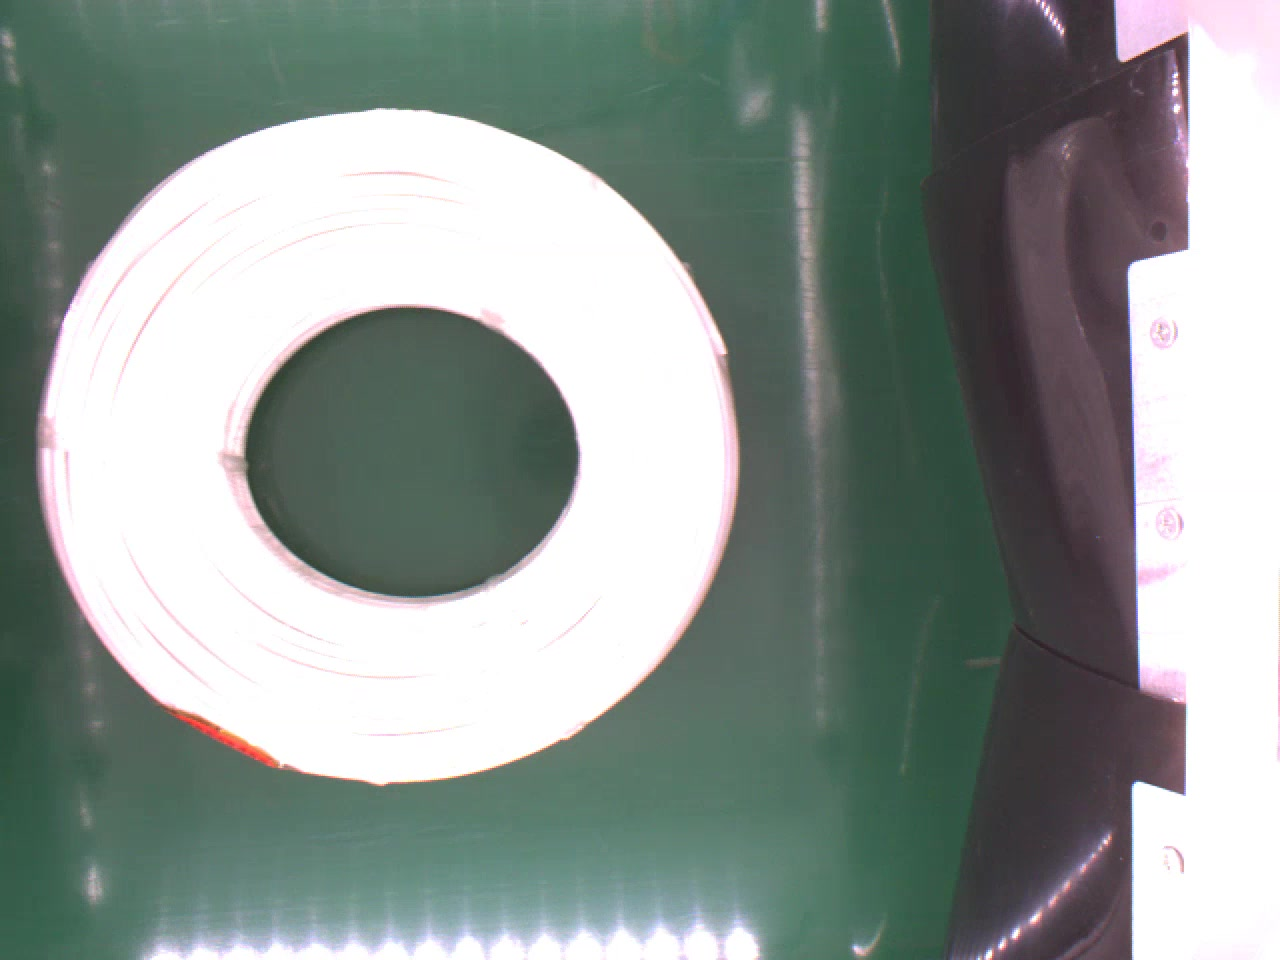white: (36, 109, 743, 787)
